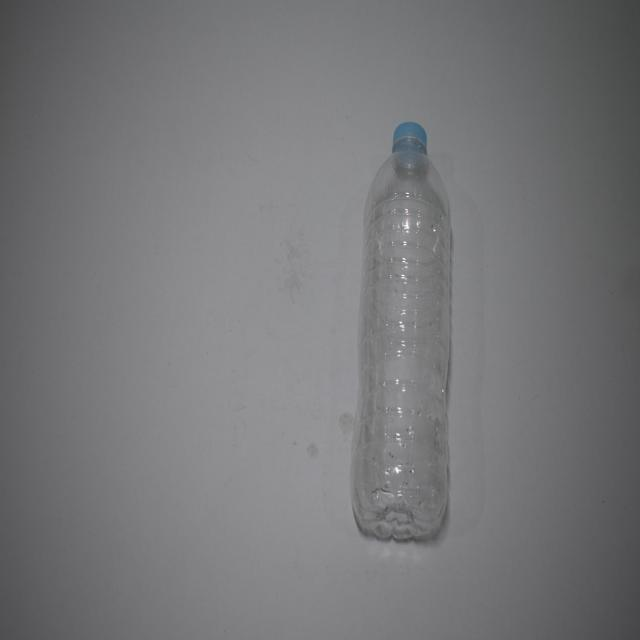empty: (351, 124, 450, 540)
